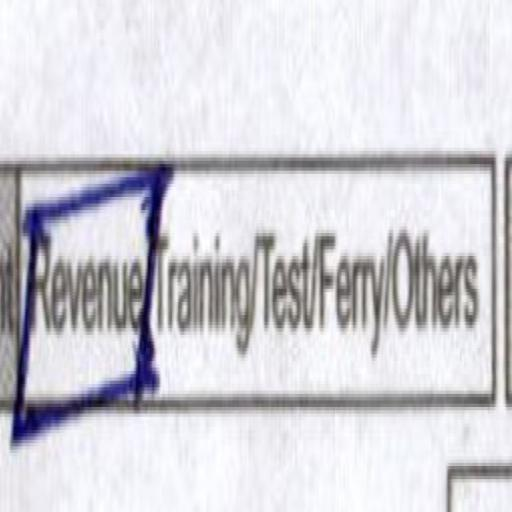check: (20, 121, 156, 463)
